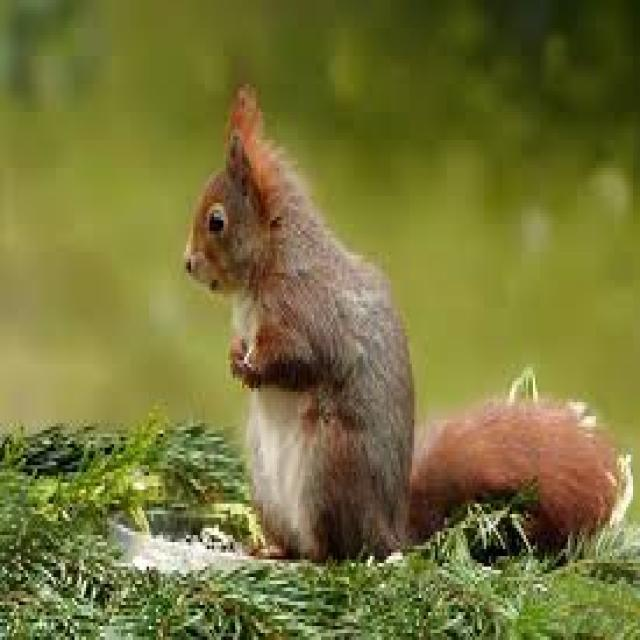Squirrel: (176, 86, 610, 548)
